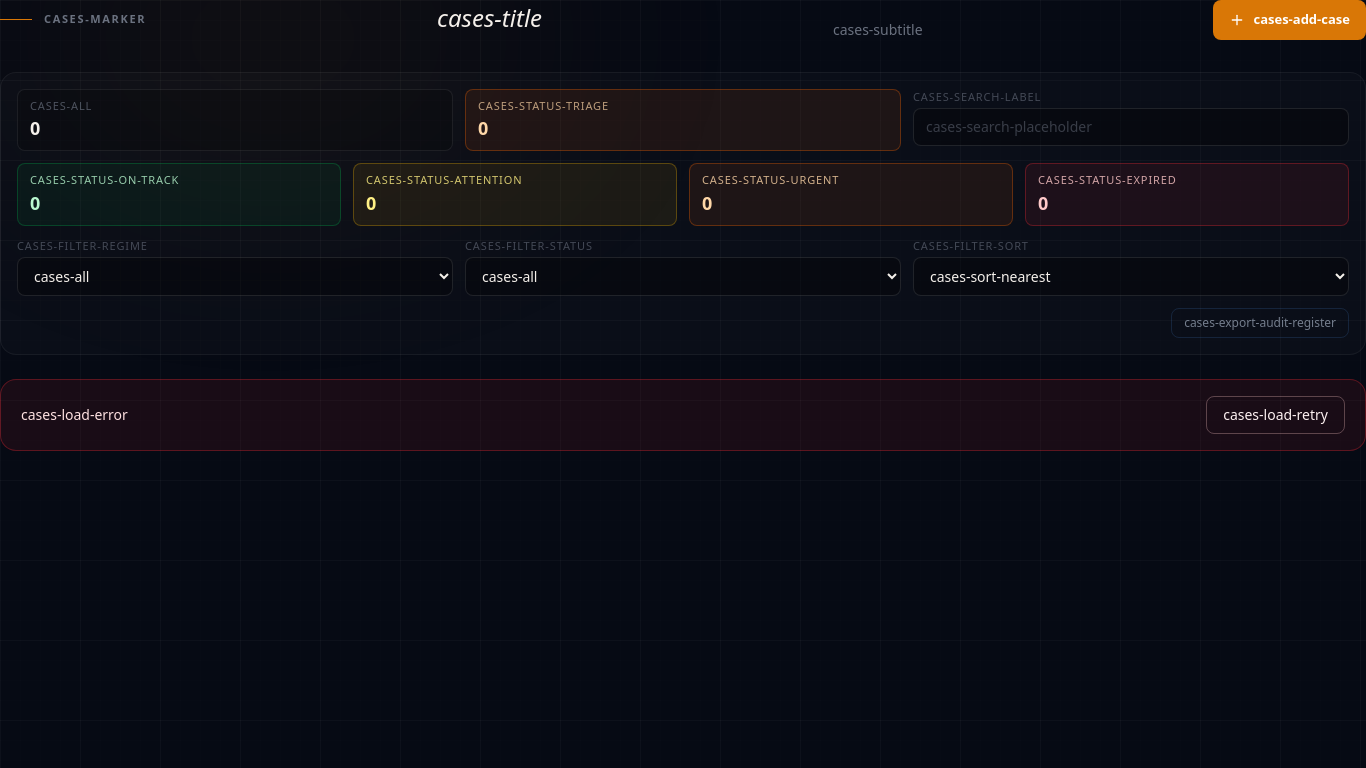
Scenario: cases filter URL synchronization › retries through the existing refresh path and renders normal content after recovery
The image size is (1366, 768).
Click the button "cases-load-retry".
click(1276, 415)  # box [1206, 396, 1345, 434]
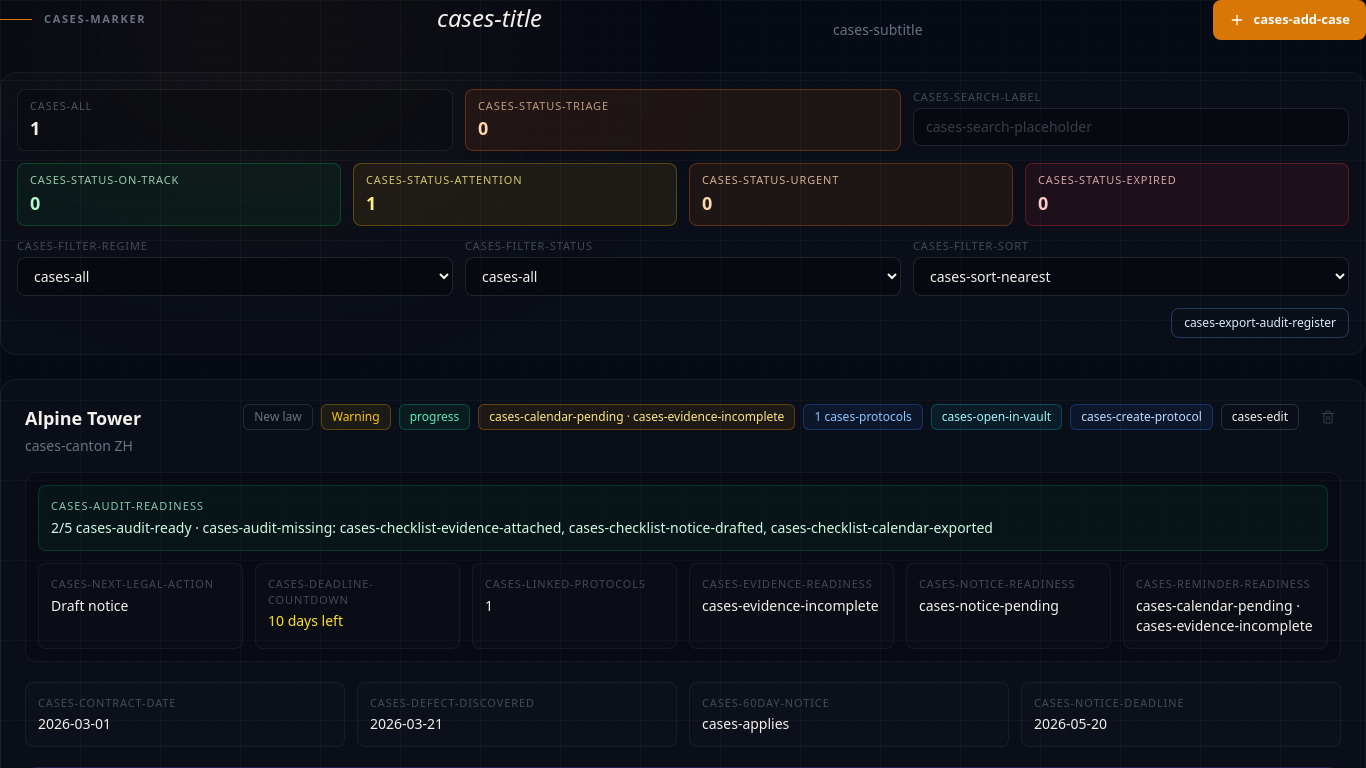
Check: the text "cases-load-error" is gone
Check: the heading "Alpine Tower" is shown, box [25, 404, 141, 432]
Check: the text "1 cases-protocols" is shown, box [803, 404, 923, 430]
